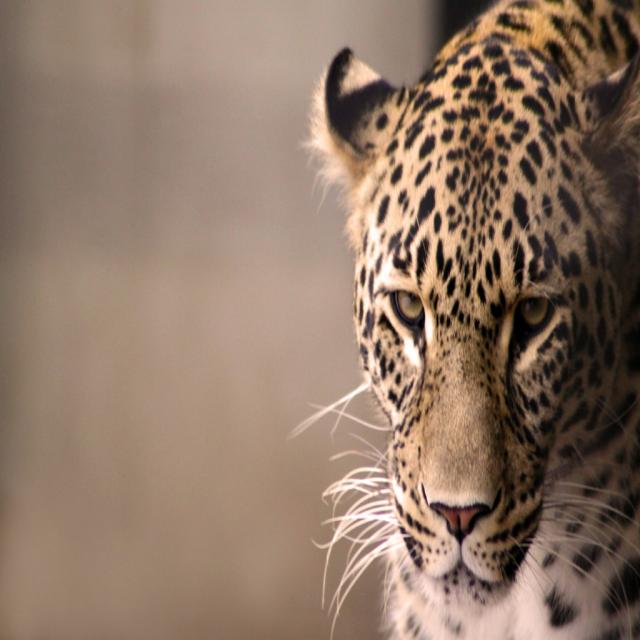Cheetah: (284, 0, 639, 639)
